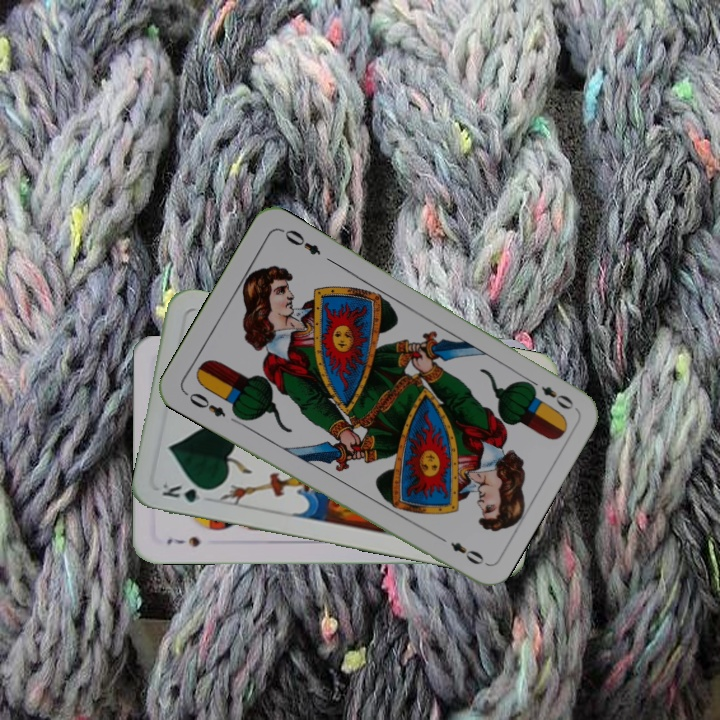EO: (523, 374, 577, 413), (180, 388, 229, 420)
GK: (158, 477, 216, 505)
S7: (163, 533, 203, 550)
